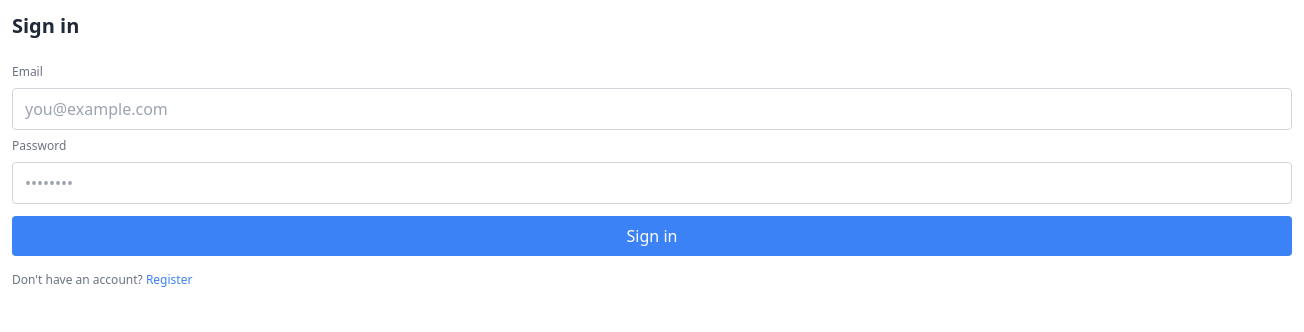
LoginForm › shows AuthError message on failed login
The width and height of the screenshot is (1304, 332).
Step 1. Type "bad@example.com" into the field with placeholder "you@example.com" → (652, 109), box [12, 88, 1292, 130]
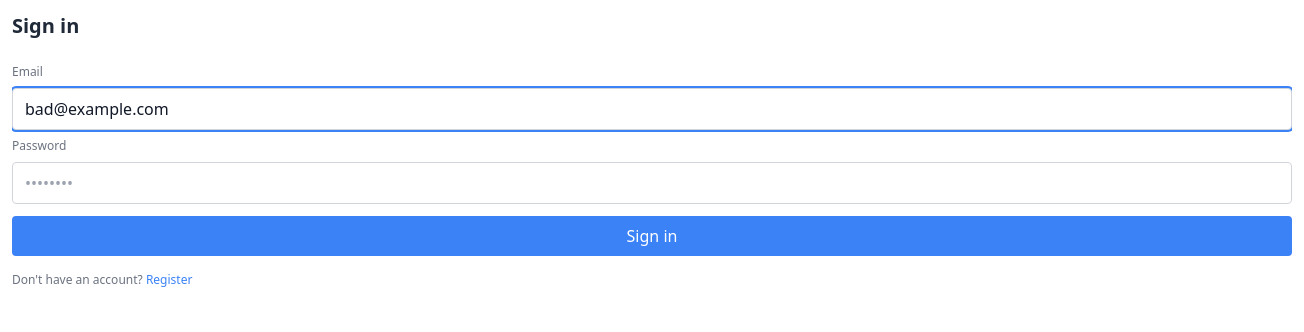
Step 2. Type "wrong" into the password field with placeholder "••••••••" → (652, 183), box [12, 162, 1292, 204]
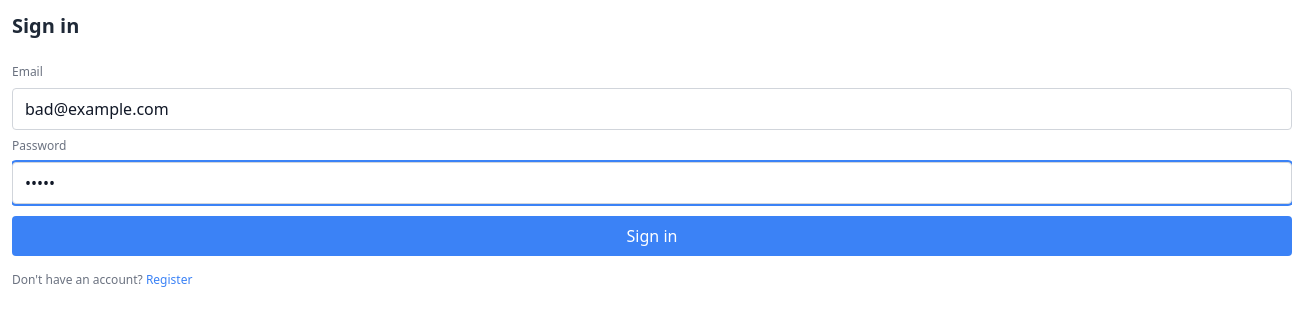
Step 3. Click the button "Sign in" → (652, 236), box [12, 216, 1292, 256]
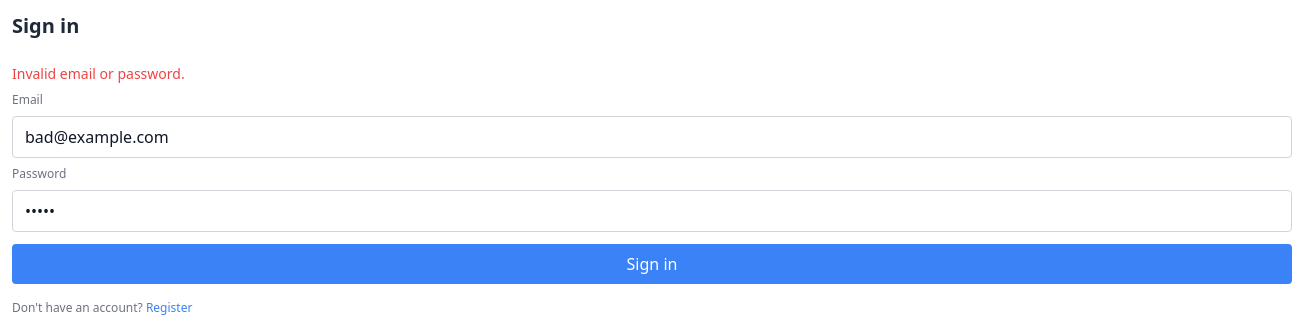
Expected: the text "Invalid email or password." is shown, [12, 64, 185, 83]
